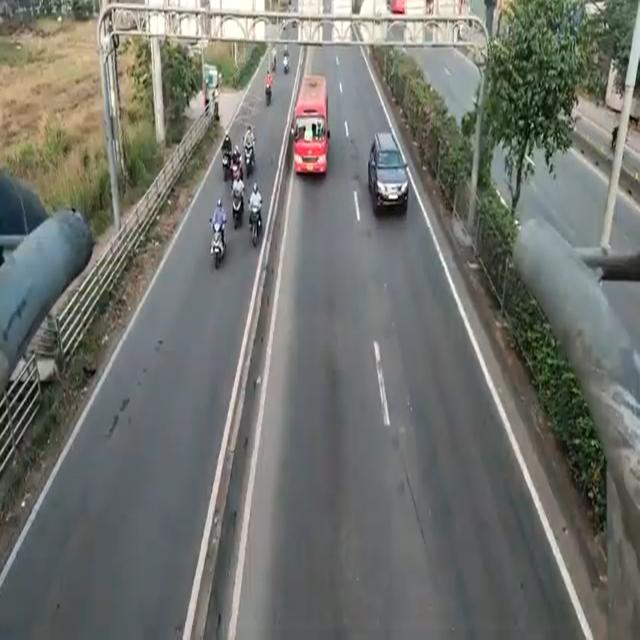bus: (293, 68, 332, 177)
car: (368, 137, 411, 214)
motor: (249, 188, 267, 254), (214, 204, 227, 273), (230, 168, 242, 230), (242, 125, 258, 168)
